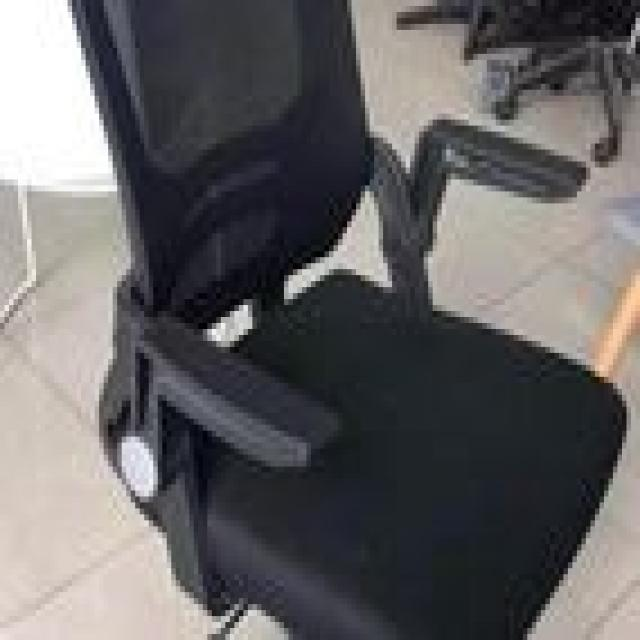others: (45, 6, 627, 640)
